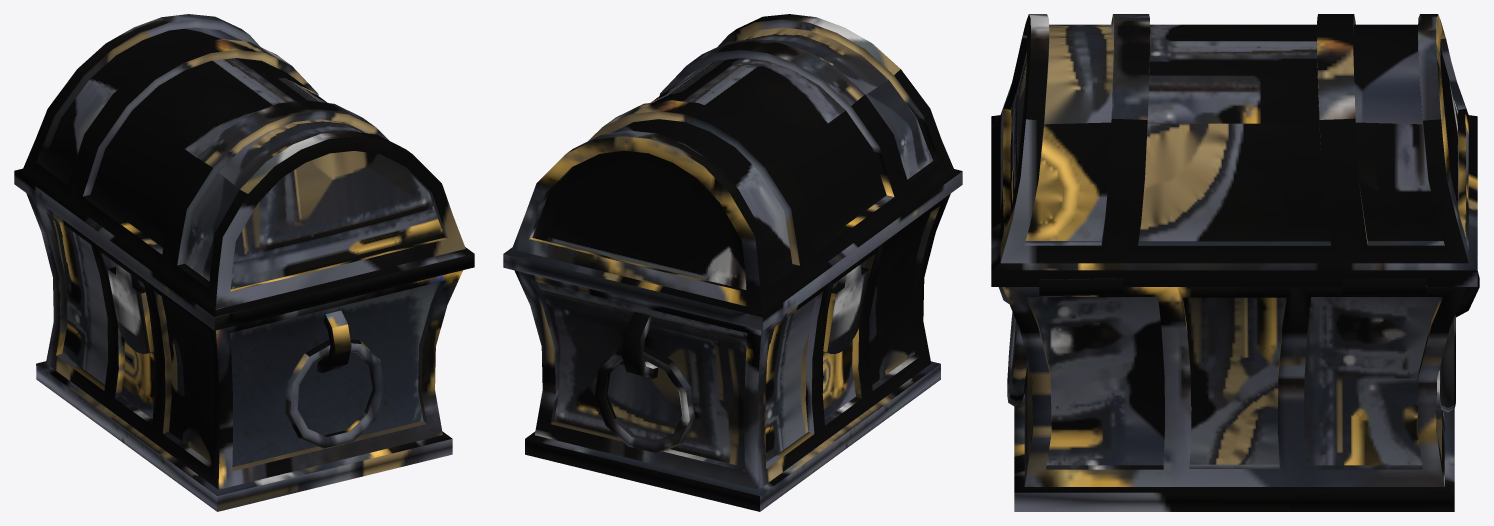
Rendered from Chest.fbx.
3 renders of one model, left to right at view 1: azimuth 30°, elevation 25°; view 2: azimuth 150°, elevation 25°; view 3: azimuth 270°, elevation 25°, orthographic. The views are drawn at different scales.
Parts seen in each view (by area): view 1: RR_ChestLid_002, RR_ChestBase_001, Torus001, RR_Chest_Lock_001, Torus003; view 2: RR_ChestLid_002, RR_ChestBase_001, Torus004, RR_Chest_Lock_001, Torus005; view 3: RR_ChestLid_002, RR_ChestBase_001, Cylinder002, Cylinder001, Torus001, Torus004.
Boxes of the visible parts, box(x1,y1,x2,y2) form: RR_ChestLid_002: box(14, 14, 474, 330); RR_ChestBase_001: box(26, 193, 462, 511); Torus001: box(285, 339, 385, 448); RR_Chest_Lock_001: box(107, 263, 153, 353); Torus003: box(317, 310, 351, 372); RR_ChestLid_002: box(503, 14, 962, 330); RR_ChestBase_001: box(514, 193, 950, 511); Torus004: box(594, 346, 695, 453); RR_Chest_Lock_001: box(823, 264, 869, 353); Torus005: box(622, 312, 658, 378); RR_ChestLid_002: box(991, 14, 1477, 286); RR_ChestBase_001: box(1002, 287, 1466, 511); Cylinder002: box(1342, 278, 1426, 295); Cylinder001: box(1039, 278, 1123, 295); Torus001: box(1007, 312, 1028, 406); Torus004: box(1439, 315, 1455, 412).
Size of the model in its own units: 49.72 by 61.17 by 65.69.
